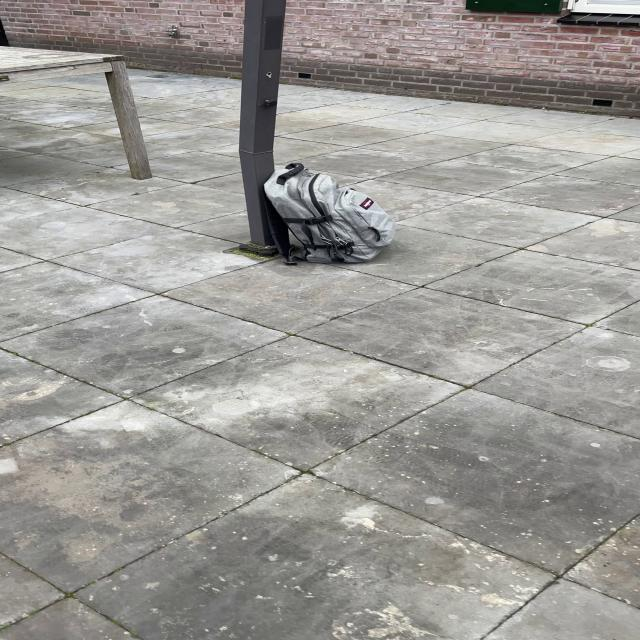backpack: (246, 161, 404, 269)
